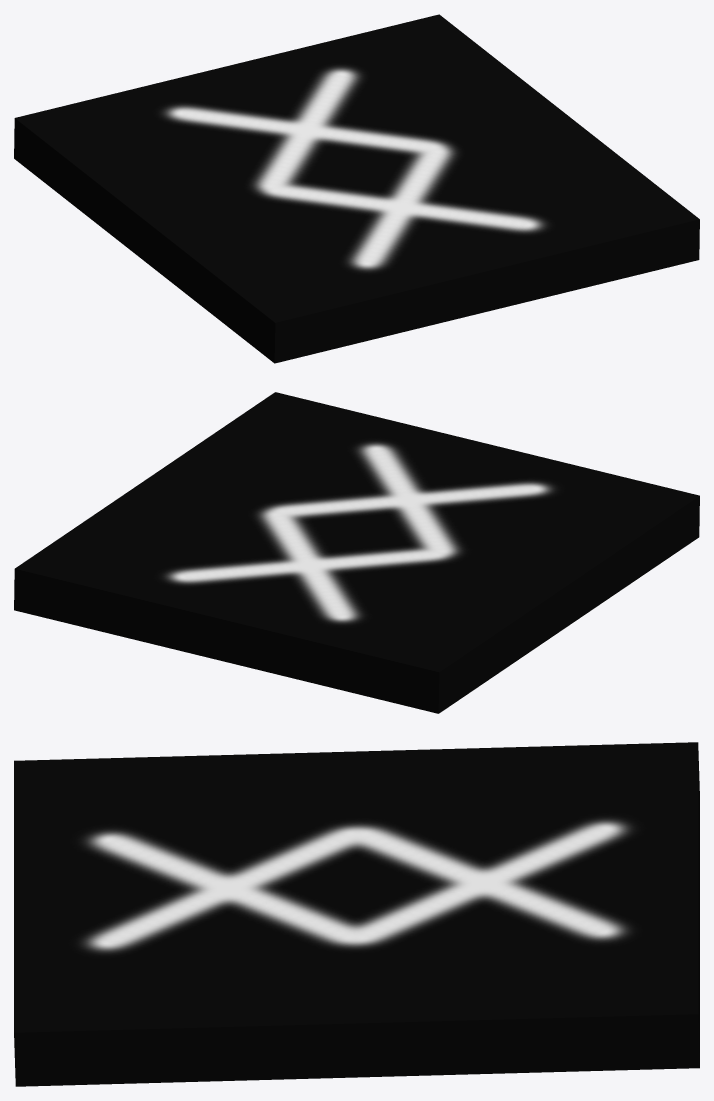
Rendered from tile_1.fbx.
3 renders of one model, top to bottom at view 1: azimuth 30°, elevation 25°; view 2: azimuth 150°, elevation 25°; view 3: azimuth 270°, elevation 25°, orthographic. The views are drawn at different scales.
Visible parts, largest first — view 1: pCube1; view 2: pCube1; view 3: pCube1.
Boxes of the visible parts, left/top/right/bottom form: pCube1: left=14, top=14, right=699, bottom=363; pCube1: left=14, top=392, right=699, bottom=713; pCube1: left=14, top=742, right=699, bottom=1086.
Size of the model in its own units: 1.73 by 0.2154 by 1.85.
1 material, 1 textured.
